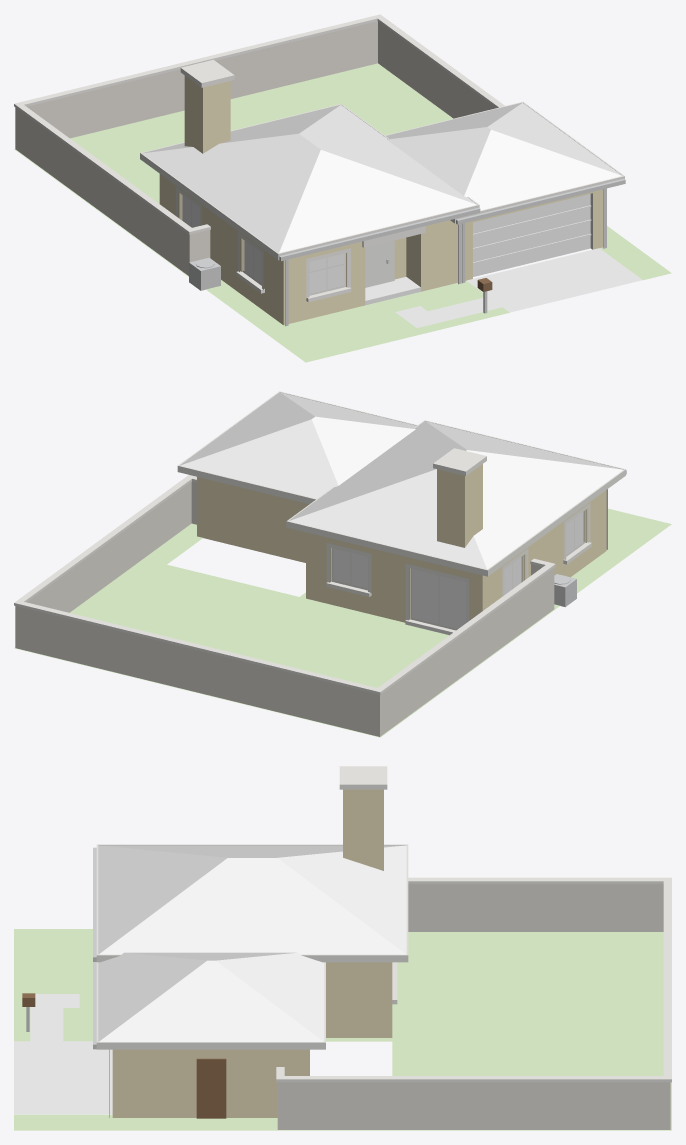
The model's file is house_spanish58.glb.
The picture shows the model from 3 angles, top to bottom: view 1: azimuth 30°, elevation 25°; view 2: azimuth 150°, elevation 25°; view 3: azimuth 270°, elevation 25°; orthographic projection. The views are drawn at different scales.
Visible parts, largest first — view 1: house_spanish58_Roof, house_spanish58_Walls2, house_spanish58_Lawn, house_spanish58_Walls, house_spanish58_Trim, house_spanish58_Site, house_spanish58_Doors, house_spanish58_Details, house_spanish58_Glass, house_spanish58_Frames; view 2: house_spanish58_Roof, house_spanish58_Walls2, house_spanish58_Lawn, house_spanish58_Walls, house_spanish58_Trim, house_spanish58_Glass, house_spanish58_Frames, house_spanish58_Details; view 3: house_spanish58_Roof, house_spanish58_Lawn, house_spanish58_Walls2, house_spanish58_Walls, house_spanish58_Trim, house_spanish58_Site, house_spanish58_Accent, house_spanish58_Details.
Boxes of the visible parts, x1,y1,x2,y2 form: house_spanish58_Roof: (143, 102, 622, 252); house_spanish58_Walls2: (15, 21, 495, 275); house_spanish58_Lawn: (14, 63, 671, 362); house_spanish58_Walls: (159, 75, 603, 325); house_spanish58_Trim: (14, 14, 624, 302); house_spanish58_Site: (365, 248, 642, 327); house_spanish58_Doors: (473, 194, 591, 276); house_spanish58_Details: (189, 178, 625, 326); house_spanish58_Glass: (182, 195, 344, 293); house_spanish58_Frames: (180, 194, 394, 295); house_spanish58_Roof: (180, 392, 623, 569); house_spanish58_Walls2: (15, 481, 554, 736); house_spanish58_Lawn: (14, 508, 671, 737); house_spanish58_Walls: (197, 464, 606, 622); house_spanish58_Trim: (14, 391, 625, 694); house_spanish58_Glass: (333, 511, 583, 628); house_spanish58_Frames: (331, 510, 585, 630); house_spanish58_Details: (554, 470, 626, 607); house_spanish58_Roof: (98, 845, 406, 1041); house_spanish58_Lawn: (14, 929, 671, 1130); house_spanish58_Walls2: (277, 884, 670, 1129); house_spanish58_Walls: (112, 789, 392, 1117); house_spanish58_Trim: (96, 766, 671, 1082); house_spanish58_Site: (14, 994, 112, 1114); house_spanish58_Accent: (22, 993, 226, 1118); house_spanish58_Details: (26, 847, 109, 1117).
Bounding box in the file's own units: 58.79 × 24.82 × 80.
